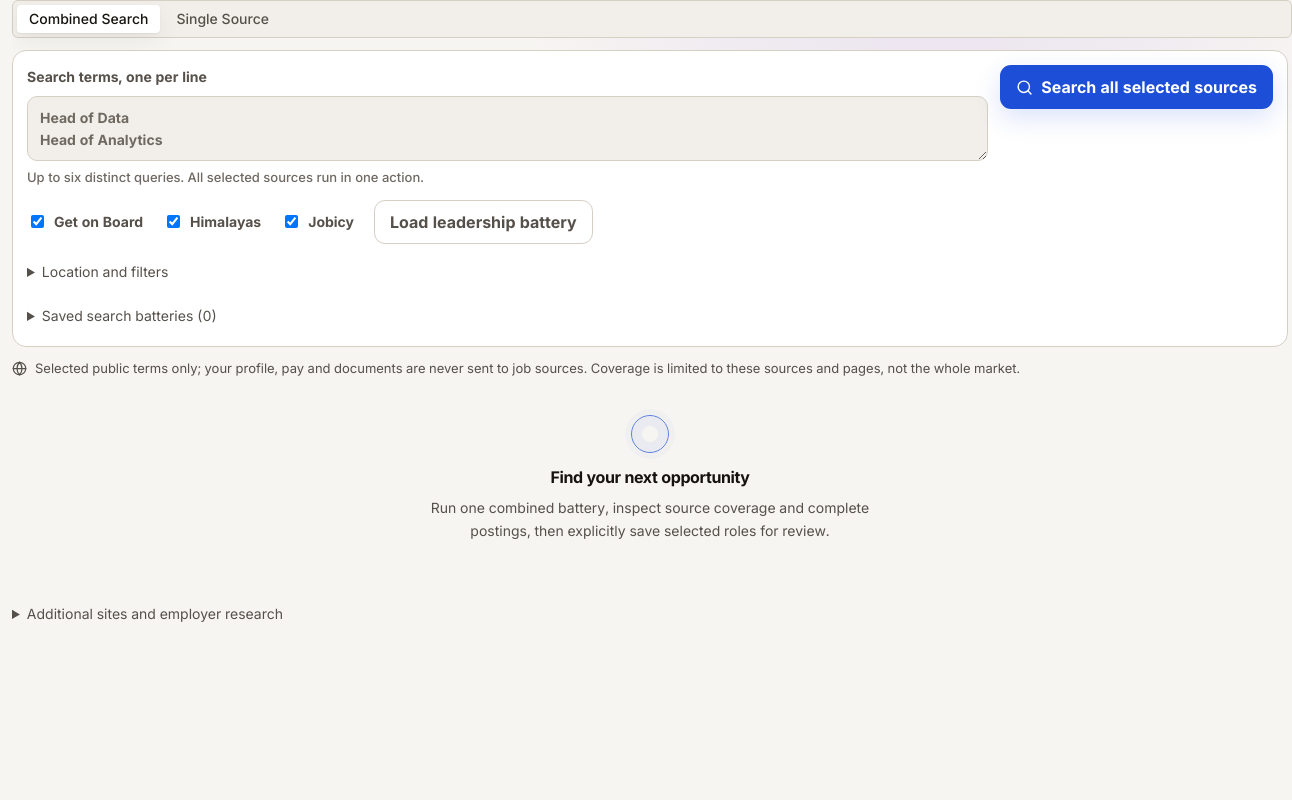
Scenario: does not describe total source failure as an empty market
Click the button "Search all selected sources" at (1137, 87), box [1000,65,1273,109]
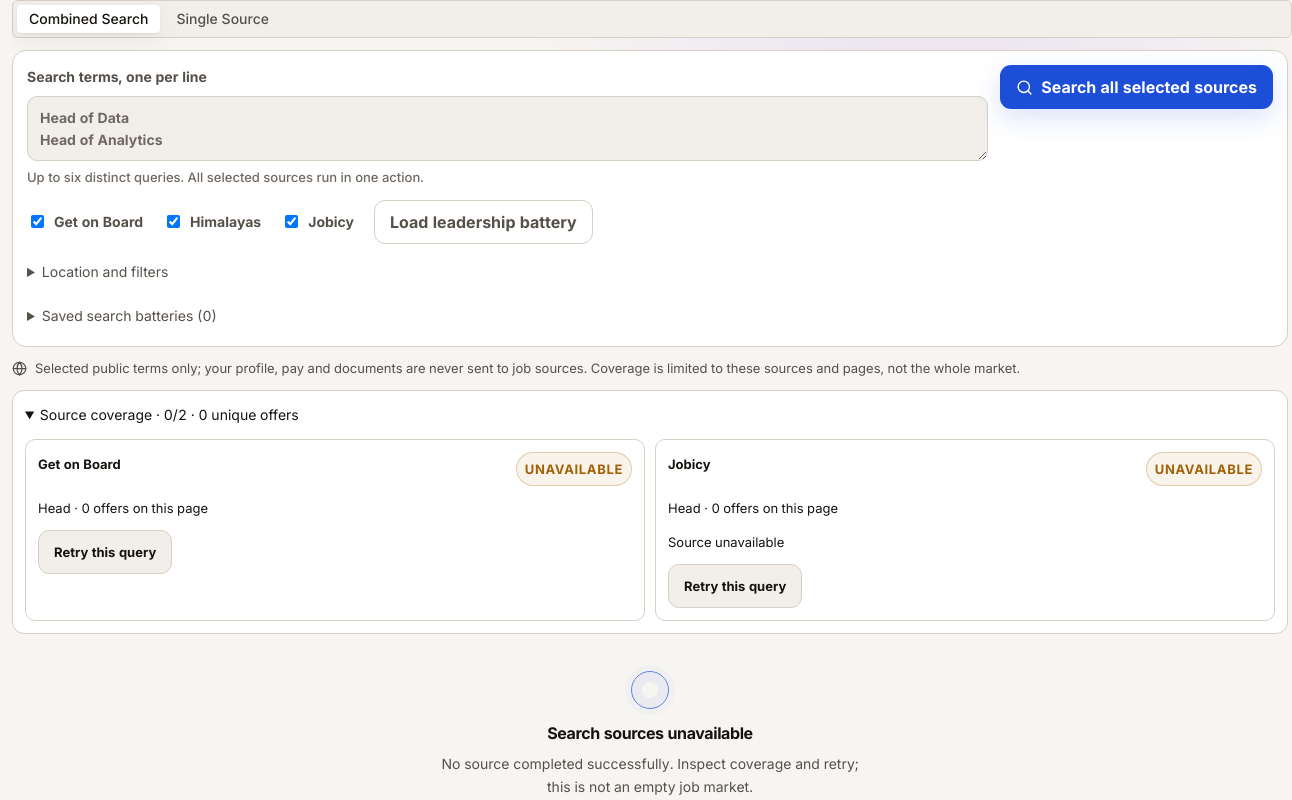
Result: the heading "Search sources unavailable" is shown at [547,721,753,745]
